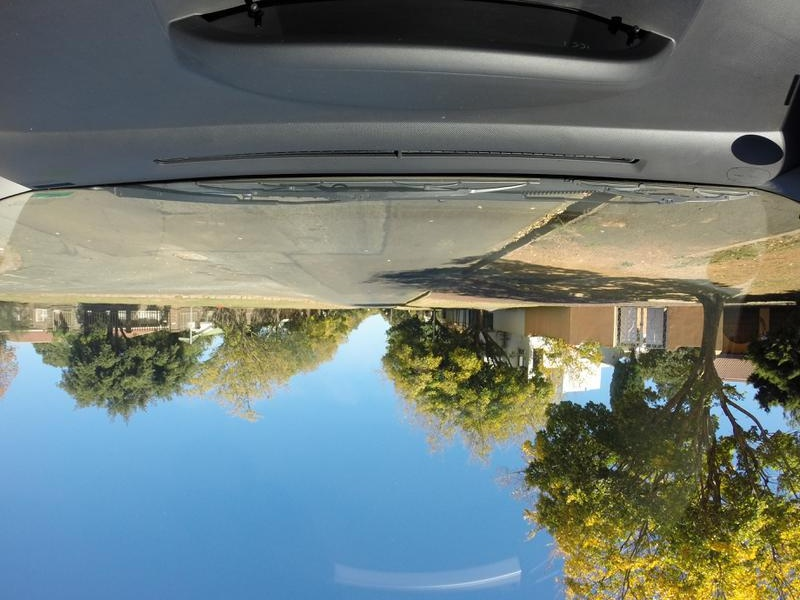pothole: (147, 243, 212, 266)
